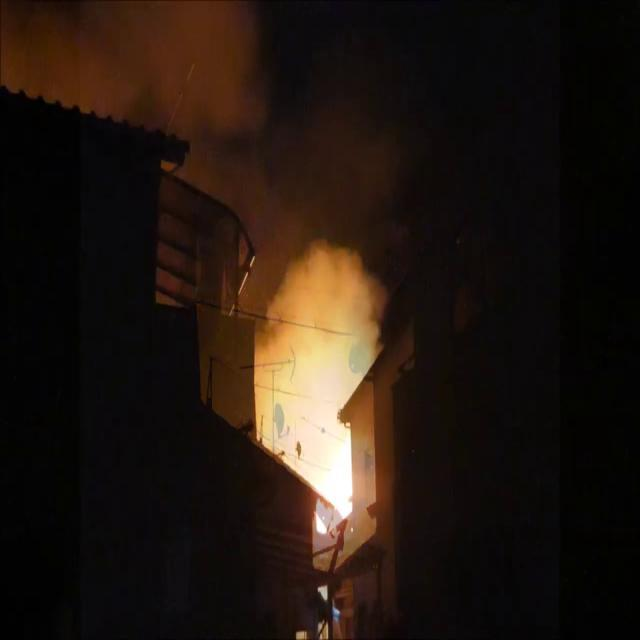Fire: (322, 409, 359, 527)
Smoke: (234, 183, 393, 482), (84, 0, 292, 179)
